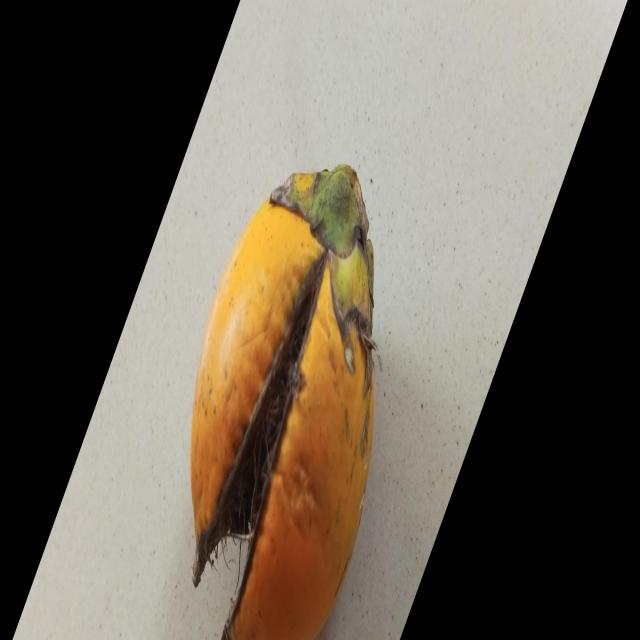damaged: (190, 167, 376, 640)
